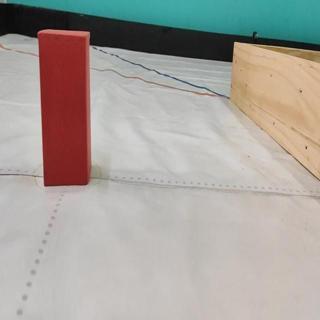redbox: (37, 27, 93, 187)
